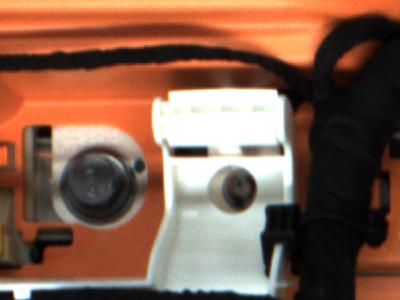nut_b: (56, 142, 142, 227)
